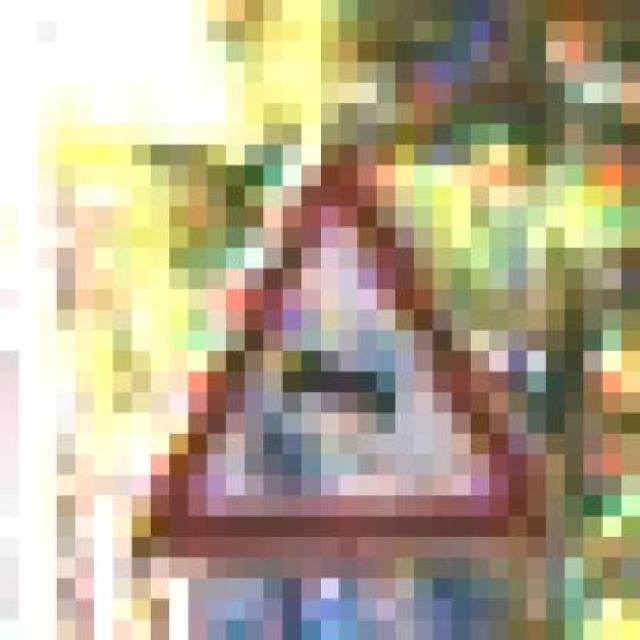Slippery Road Ahead: (132, 82, 546, 558)
